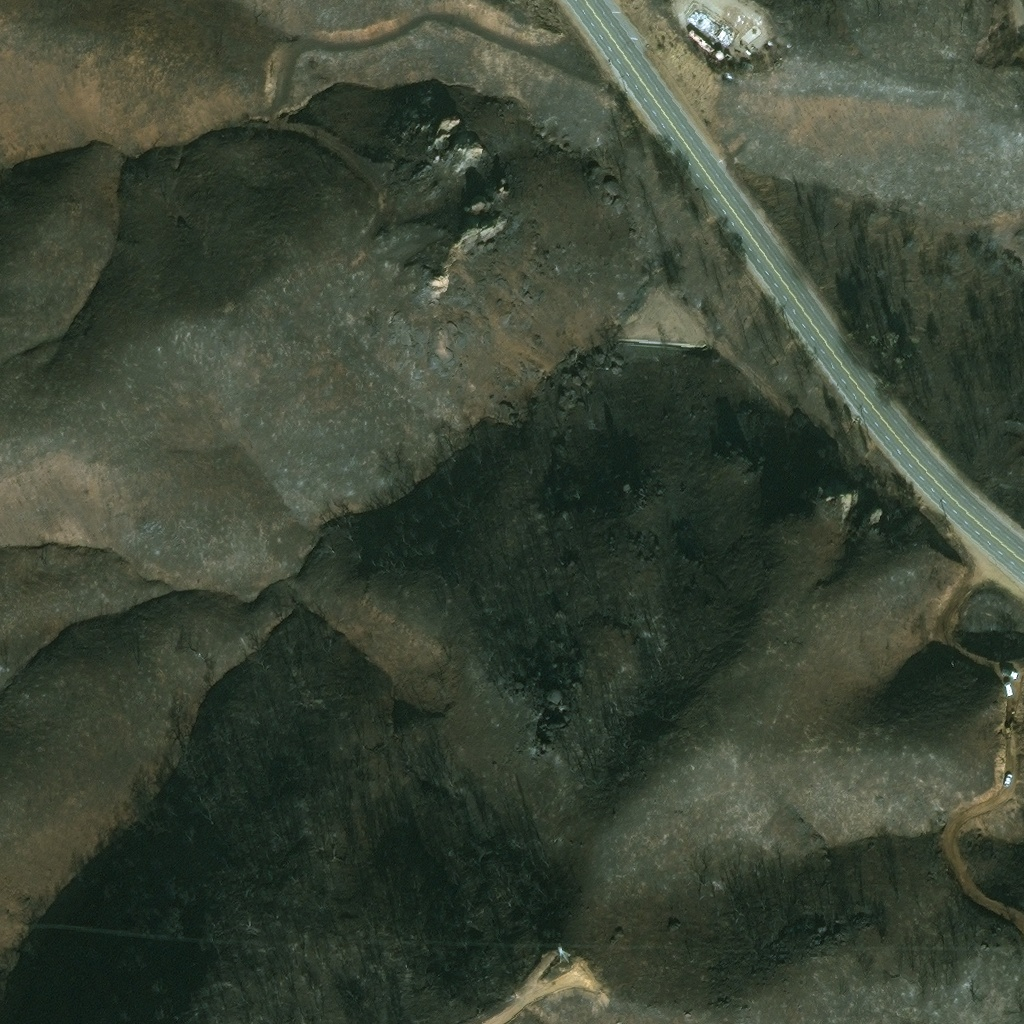3 destroyed: (705, 17, 733, 45), (686, 28, 714, 53), (684, 3, 708, 27), (713, 49, 723, 59)
